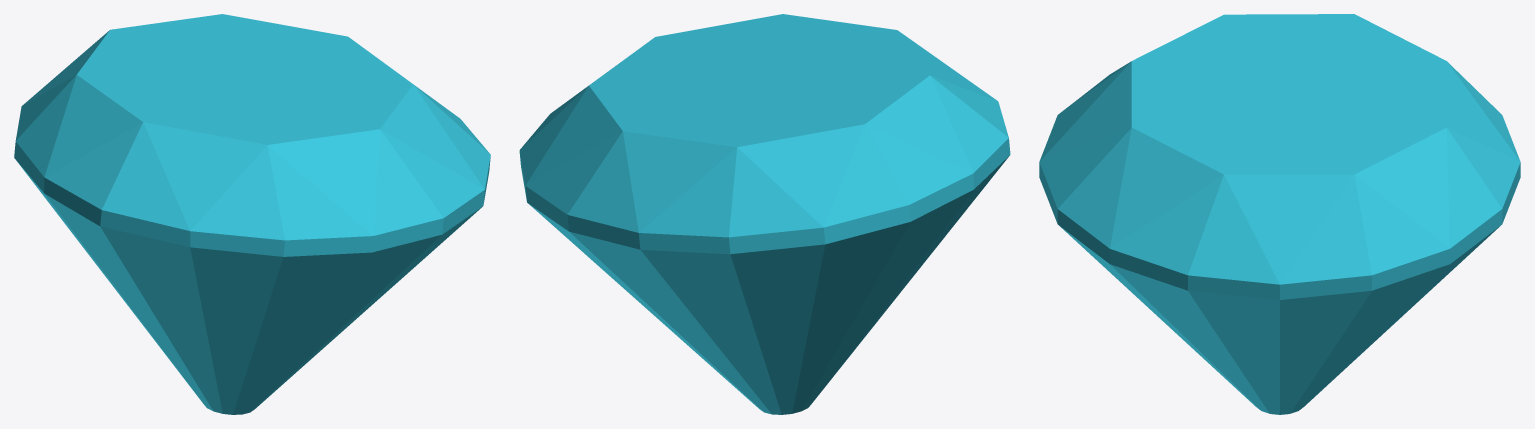
File: ddd 1.fbx
3 renders of one model, left to right at view 1: azimuth 30°, elevation 25°; view 2: azimuth 150°, elevation 25°; view 3: azimuth 270°, elevation 25°, orthographic.
Parts seen in each view (by area): view 1: Mesh; view 2: Mesh; view 3: Mesh.
Boxes of the visible parts, x1,y1,x2,y2 form: Mesh: (14, 14, 490, 414); Mesh: (519, 14, 1010, 414); Mesh: (1039, 14, 1520, 414).
Size of the model in its own units: 179 by 137 by 179.
